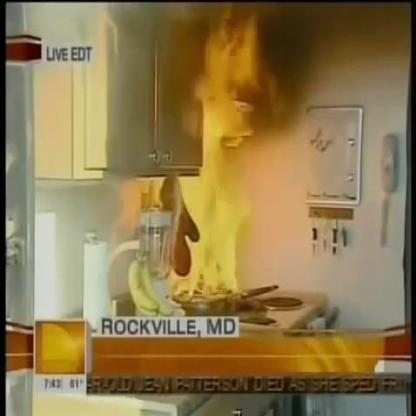fire: (156, 11, 262, 303)
